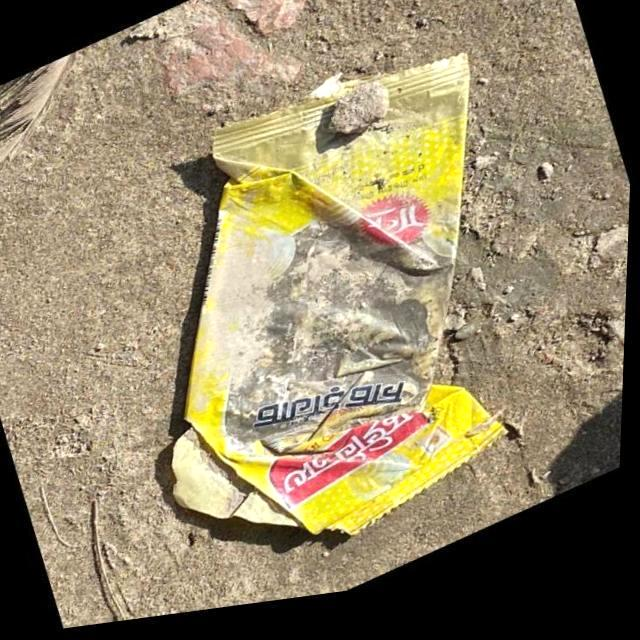packet: (219, 110, 446, 499)
